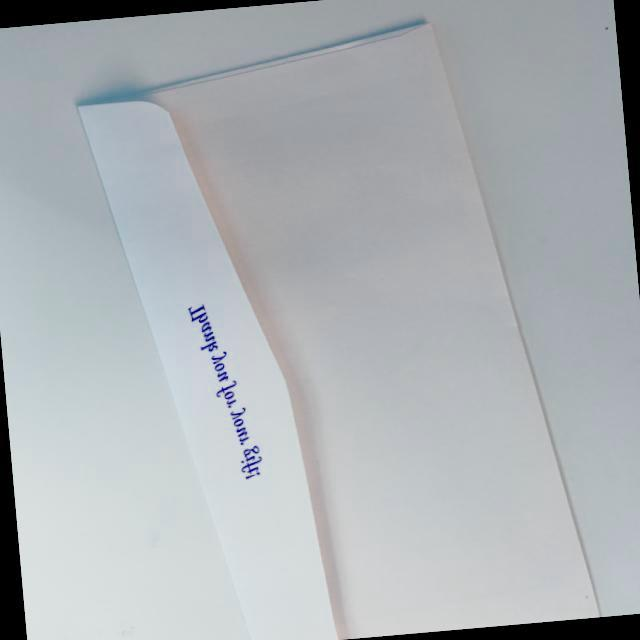paper: (63, 7, 602, 640)
